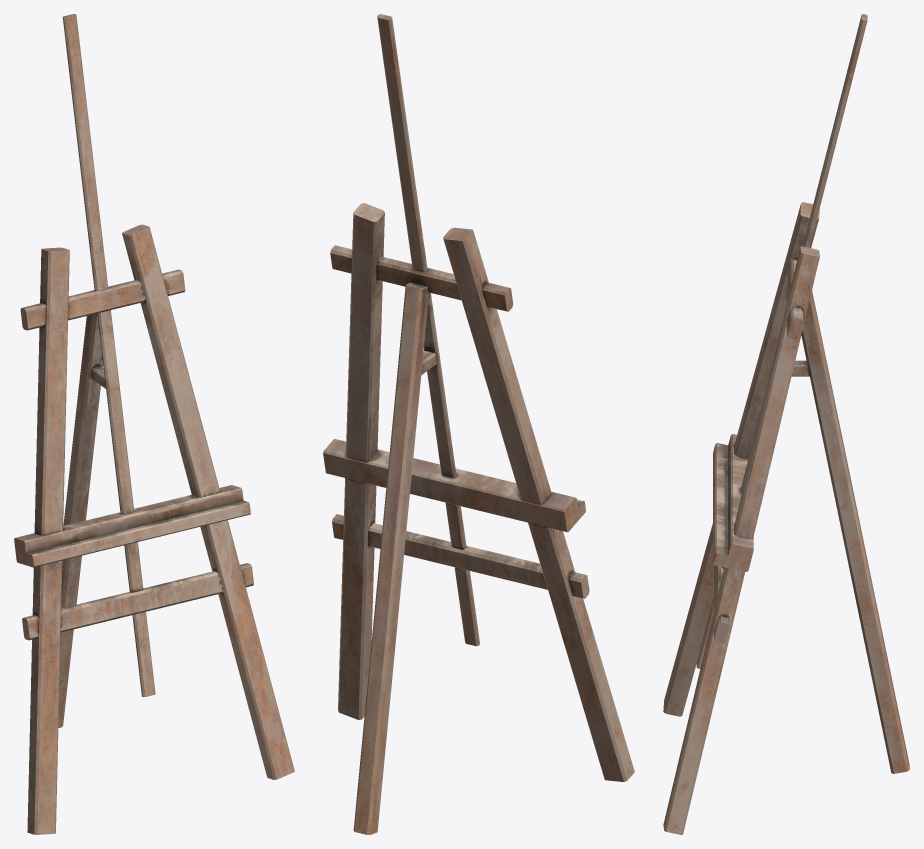
3 renders of one model, left to right at view 1: azimuth 30°, elevation 25°; view 2: azimuth 150°, elevation 25°; view 3: azimuth 270°, elevation 25°, orthographic. The views are drawn at different scales.
Visible parts, largest first — view 1: Easel_LOD0__0; view 2: Easel_LOD0__0; view 3: Easel_LOD0__0.
Boxes of the visible parts, x1,y1,x2,y2 form: Easel_LOD0__0: (14,14,294,834); Easel_LOD0__0: (323,14,634,834); Easel_LOD0__0: (663,14,909,834).
Bounding box in the file's own units: 1.3 × 3.47 × 1.02.
Materials: 1 (1 with a texture image).
